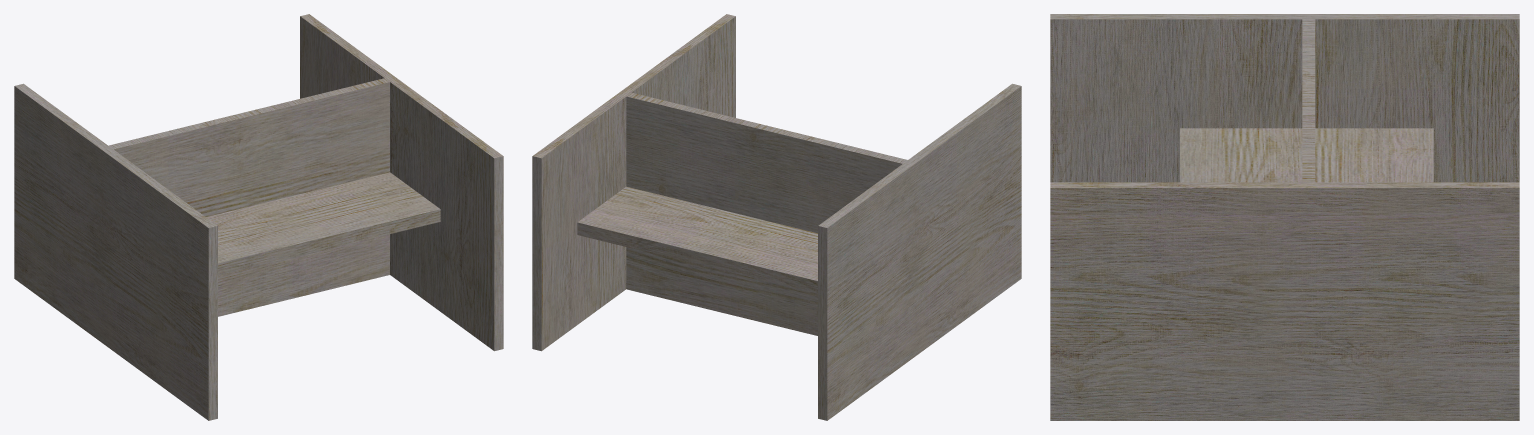
Rendered from Escritorio.fbx.
3 views of the same model, side by side, from view 1: azimuth 30°, elevation 25°; view 2: azimuth 150°, elevation 25°; view 3: azimuth 270°, elevation 25° (orthographic). The views are drawn at different scales.
Parts seen in each view (by area): view 1: Escritorio; view 2: Escritorio; view 3: Escritorio.
Boxes of the visible parts, x1,y1,x2,y2 form: Escritorio: (14, 14, 503, 420); Escritorio: (532, 14, 1021, 420); Escritorio: (1050, 14, 1519, 420).
Size of the model in its own units: 338 by 211 by 386.
